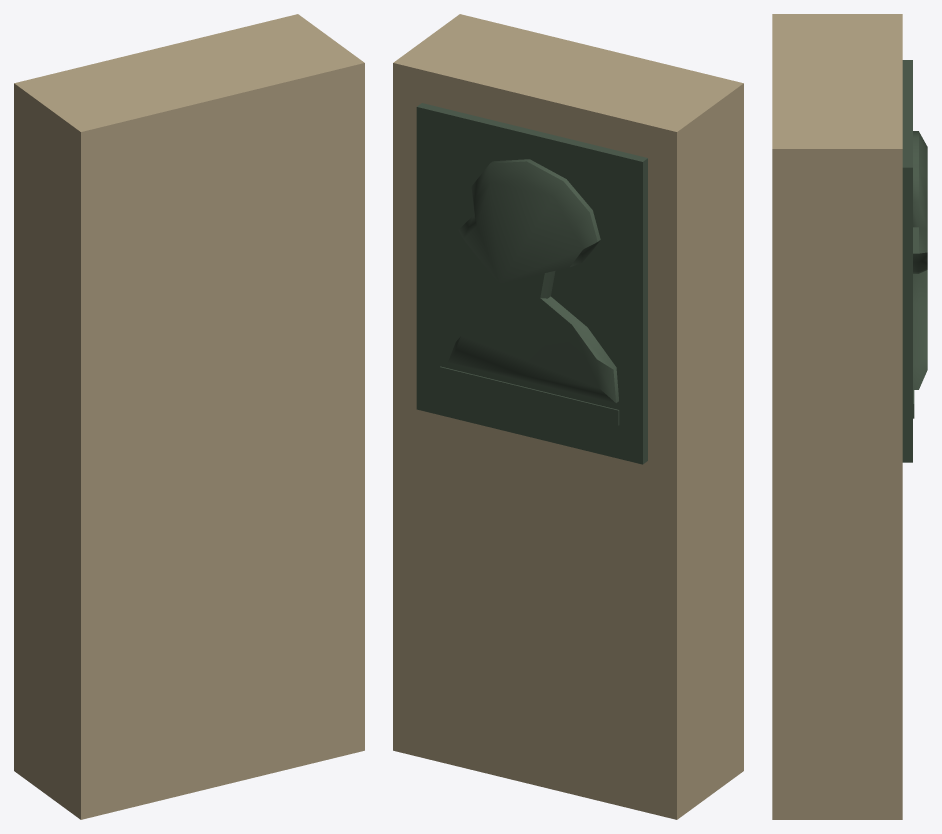
The model's file is mon_rosa_luxemburg.glb.
3 renders of one model, left to right at view 1: azimuth 30°, elevation 25°; view 2: azimuth 150°, elevation 25°; view 3: azimuth 270°, elevation 25°, orthographic. The views are drawn at different scales.
Parts seen in each view (by area): view 1: mon_rosa_luxemburg; view 2: mon_rosa_luxemburg; view 3: mon_rosa_luxemburg.
Part boxes in pixels (x1,y1,x2,y2): mon_rosa_luxemburg: (14, 14, 364, 819); mon_rosa_luxemburg: (393, 14, 743, 819); mon_rosa_luxemburg: (772, 14, 927, 819).
Size of the model in its own units: 1.08 by 2.5 by 0.525.
